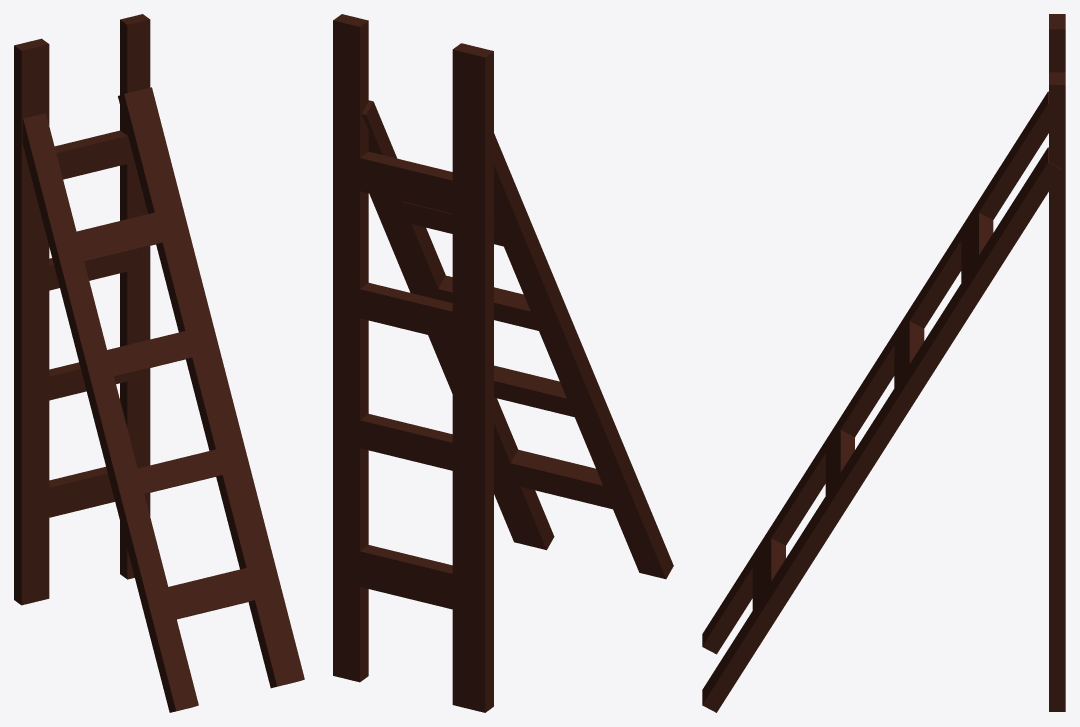
Rendered from Ladders.FBX.
3 views of the same model, side by side, from view 1: azimuth 30°, elevation 25°; view 2: azimuth 150°, elevation 25°; view 3: azimuth 270°, elevation 25° (orthographic). The views are drawn at different scales.
Parts seen in each view (by area): view 1: Ladder, Ladder001; view 2: Ladder001, Ladder; view 3: Ladder, Ladder001.
Boxes of the visible parts, box(x1,y1,x2,y2) form: Ladder: box(22, 87, 304, 712); Ladder001: box(14, 14, 150, 605); Ladder001: box(333, 14, 493, 712); Ladder: box(362, 100, 673, 579); Ladder: box(702, 91, 1062, 712); Ladder001: box(1049, 14, 1065, 711).
Size of the model in its own units: 0.505 by 2.06 by 1.08.
